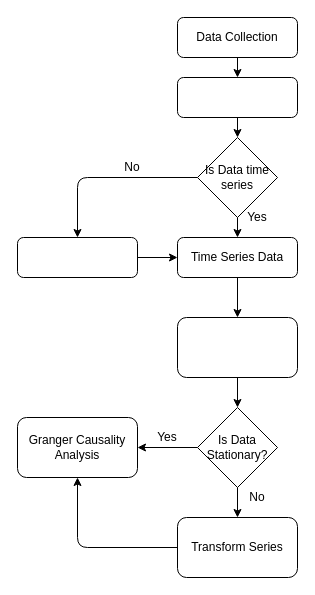
The diagram is 315 pixels wide and 595 high, and some of its shapes have lost their labels. The shapes that lost their labels are listed below. From the top down, each one's centre as x and y in pixels, then its label:
At [237,97]: "Local Data Warehouse".
At [77,257]: "Preprocessing for Time Series".
At [237,347]: "Data Preprocessing".
